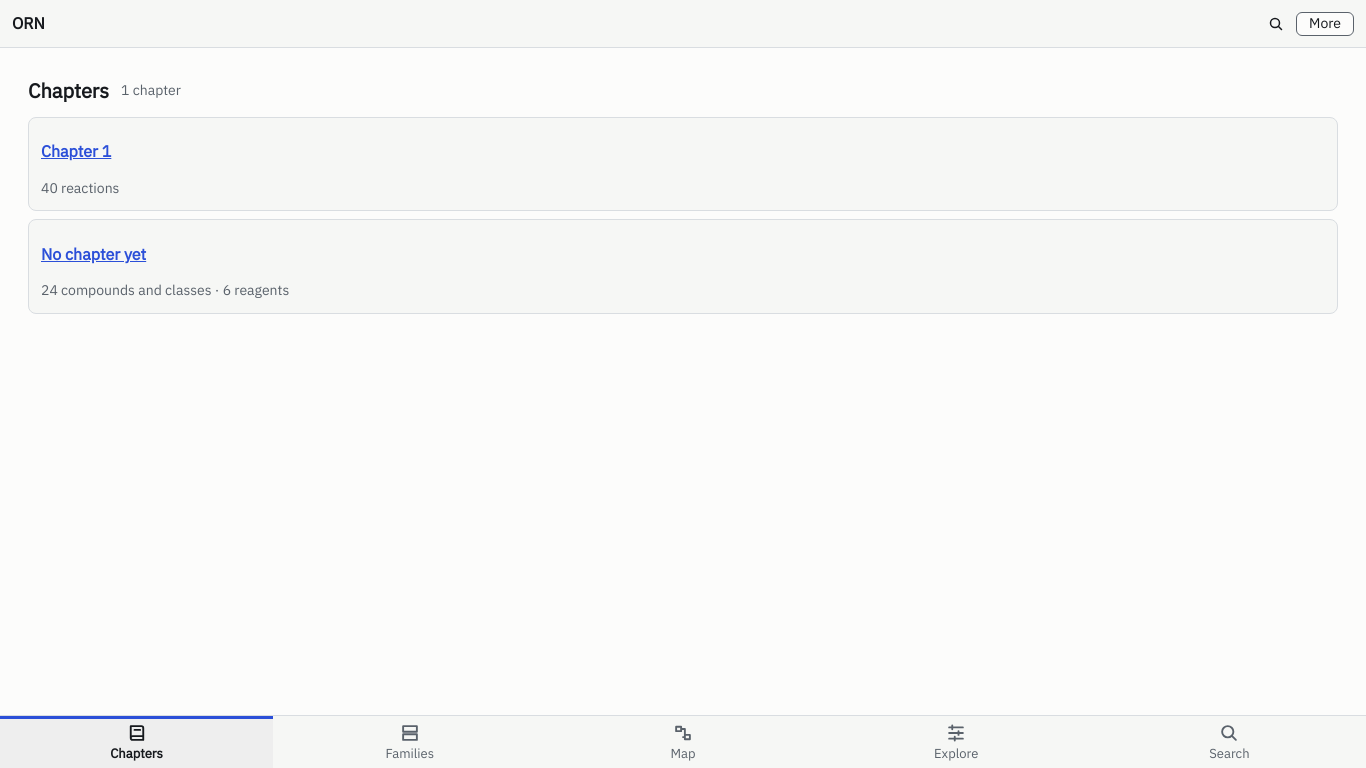
Scenario: the phone shell › Status in More opens the whole status line in its own dialog
Click the button "More": (1325,24) [1296, 12, 1354, 36]
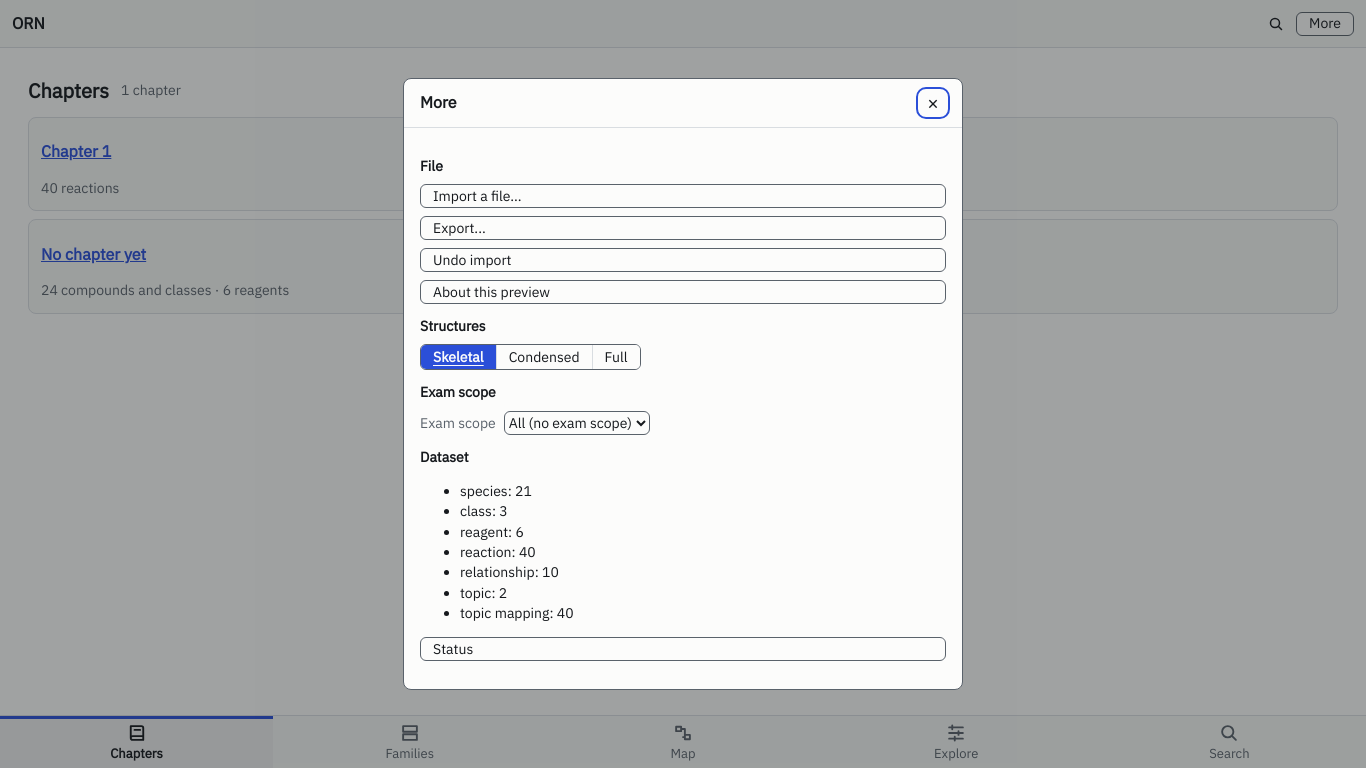
Click the button "Status": (453,649) [420, 637, 946, 661]
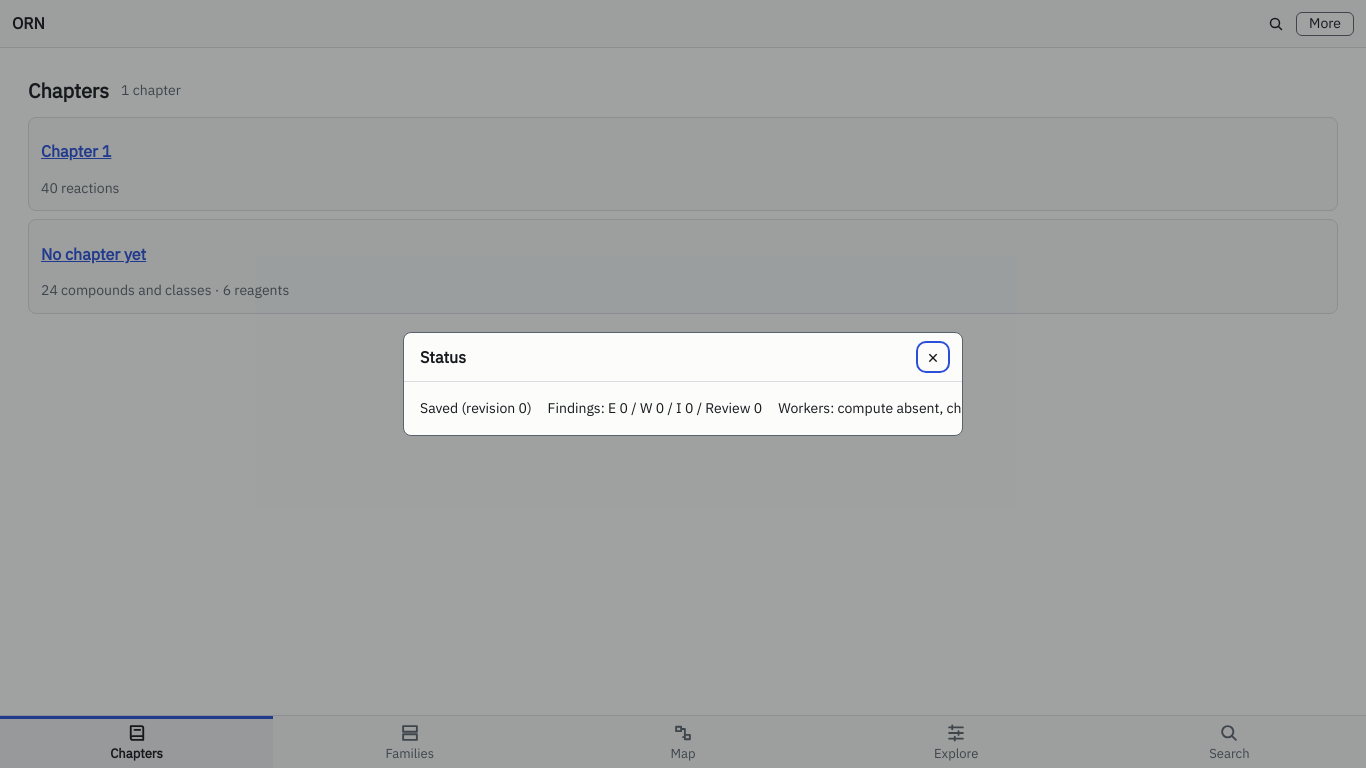
Now the list item "Findings: E 0 / W 0 / I 0 / Review 0" is shown, box [548, 398, 762, 419]
